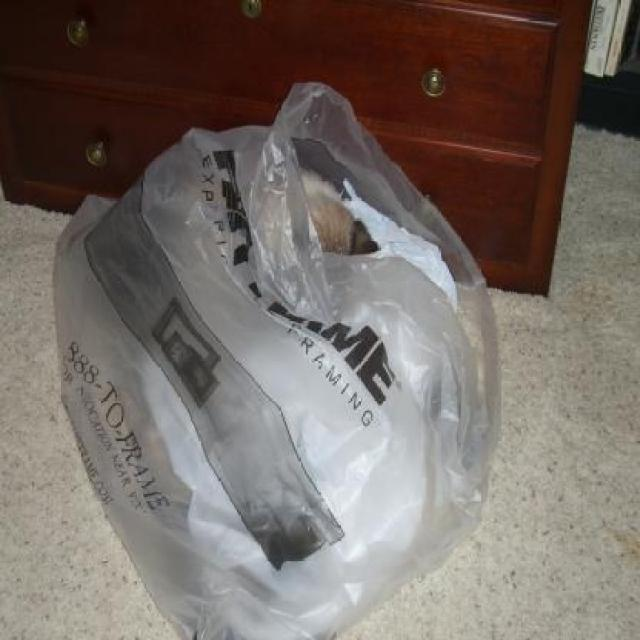plastic bag: (54, 81, 500, 638)
